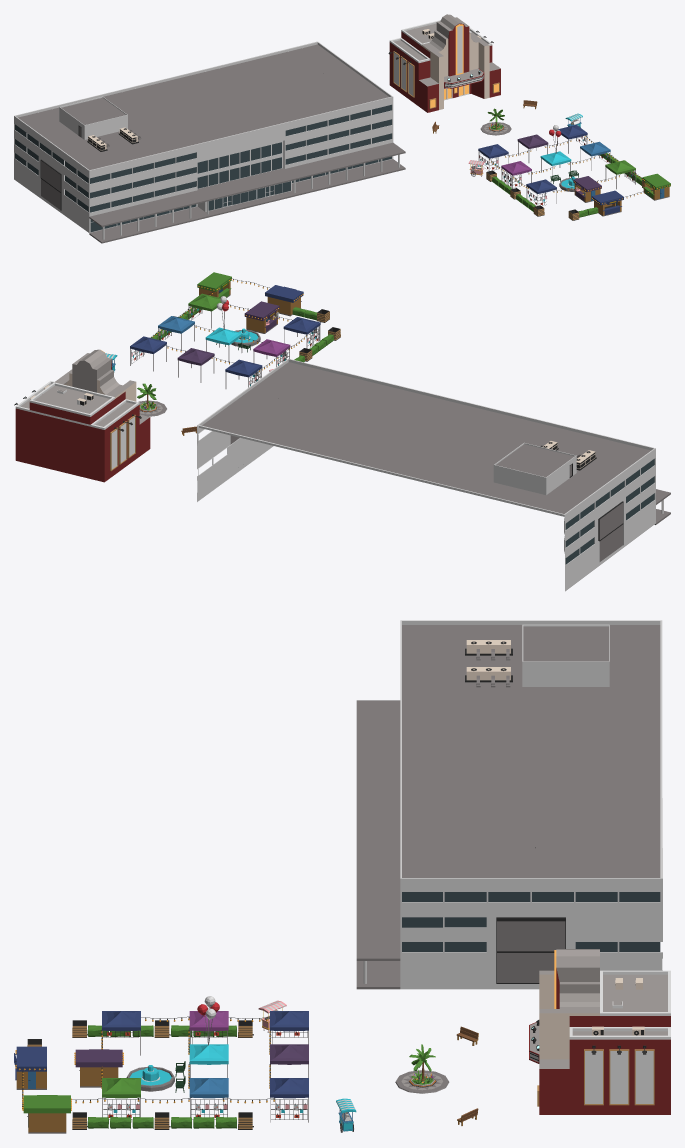
Rendered from events_bldgs.glb.
The picture shows the model from 3 angles, top to bottom: view 1: azimuth 30°, elevation 25°; view 2: azimuth 150°, elevation 25°; view 3: azimuth 270°, elevation 25°; orthographic projection. The views are drawn at different scales.
Visible parts, largest first — view 1: airport-terminal, building-cinema, souvenir-stall.002, souvenir-stall.001, souvenir-stall, tent-party.018; view 2: airport-terminal, building-cinema, souvenir-stall, souvenir-stall.002, souvenir-stall.001, tent-party.024, tent-party.025, tent-party.008, tent-party.016, tent-party.020, tent-party.017, tent-party.021; view 3: airport-terminal, building-cinema, souvenir-stall.001, souvenir-stall, souvenir-stall.002, fountain.002, tent-party.025, tent-party.021, tent-party.020, tent-party.024, tent-party.008, tent-party.018 (+3 smaller).
Boxes of the visible parts, <box> form: airport-terminal: <box>14,41,405,243</box>; building-cinema: <box>388,14,500,112</box>; souvenir-stall.002: <box>591,190,623,216</box>; souvenir-stall.001: <box>642,173,670,200</box>; souvenir-stall: <box>573,176,601,202</box>; tent-party.018: <box>605,160,635,189</box>; airport-terminal: <box>197,358,670,591</box>; building-cinema: <box>14,349,150,482</box>; souvenir-stall: <box>244,301,279,333</box>; souvenir-stall.002: <box>265,285,303,316</box>; souvenir-stall.001: <box>197,272,231,297</box>; tent-party.024: <box>177,348,214,382</box>; tent-party.025: <box>205,327,242,362</box>; tent-party.008: <box>283,317,320,348</box>; tent-party.016: <box>225,359,262,388</box>; tent-party.020: <box>130,336,166,371</box>; tent-party.017: <box>253,339,290,366</box>; tent-party.021: <box>158,316,194,350</box>; airport-terminal: <box>356,620,662,989</box>; building-cinema: <box>529,949,670,1114</box>; souvenir-stall.001: <box>22,1095,71,1133</box>; souvenir-stall: <box>74,1049,123,1087</box>; souvenir-stall.002: <box>14,1046,46,1089</box>; fountain.002: <box>126,1065,174,1091</box>; tent-party.025: <box>189,1044,228,1077</box>; tent-party.021: <box>189,1078,228,1117</box>; tent-party.020: <box>270,1078,308,1122</box>; tent-party.024: <box>270,1044,308,1077</box>; tent-party.008: <box>102,1011,140,1055</box>; tent-party.018: <box>102,1078,140,1117</box>.
Size of the model in its own units: 94.81 by 14.59 by 64.82.
